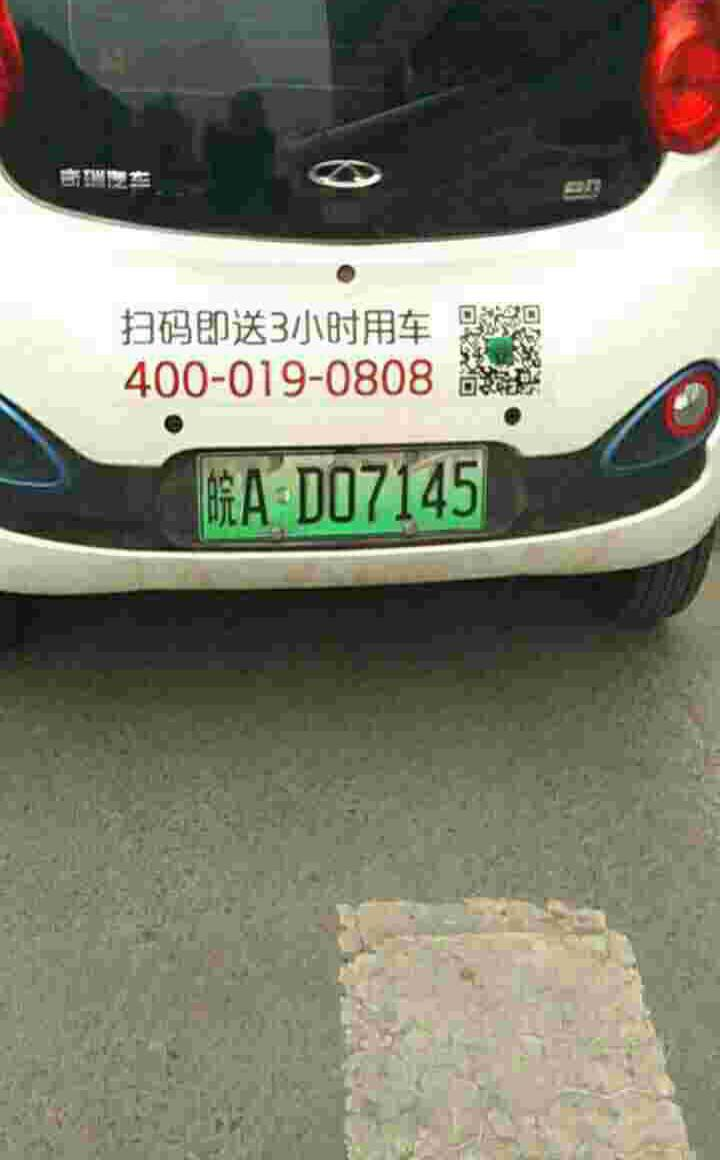car_id: (199, 444, 486, 542)
